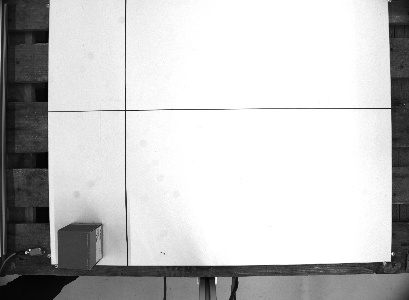b7: (53, 219, 105, 271)
